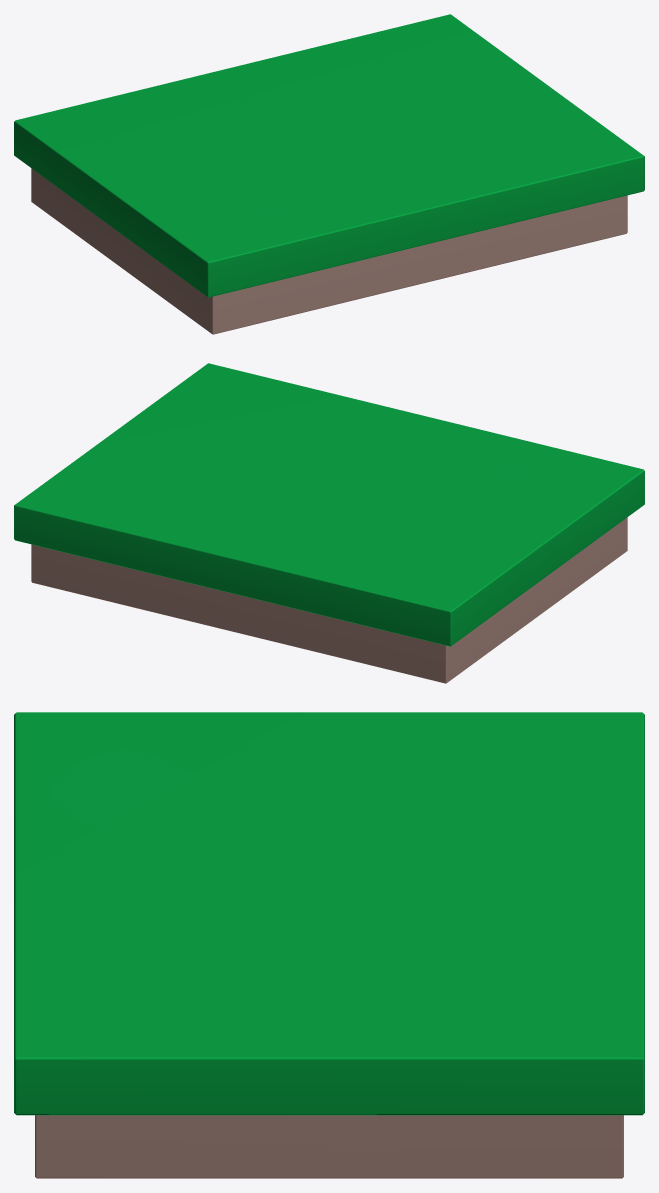
The model's file is Farm_6_Base_1.glb.
The picture shows the model from 3 angles, top to bottom: view 1: azimuth 30°, elevation 25°; view 2: azimuth 150°, elevation 25°; view 3: azimuth 270°, elevation 25°; orthographic projection. The views are drawn at different scales.
Parts seen in each view (by area): view 1: Farm_6_Base_1; view 2: Farm_6_Base_1; view 3: Farm_6_Base_1.
Part boxes in pixels (x1=…): Farm_6_Base_1: x1=14, y1=14, x2=644, y2=334; Farm_6_Base_1: x1=14, y1=363, x2=644, y2=683; Farm_6_Base_1: x1=14, y1=712, x2=644, y2=1178.
Bounding box in the file's own units: 14.56 × 2.55 × 11.2.
1 material, 1 textured.
